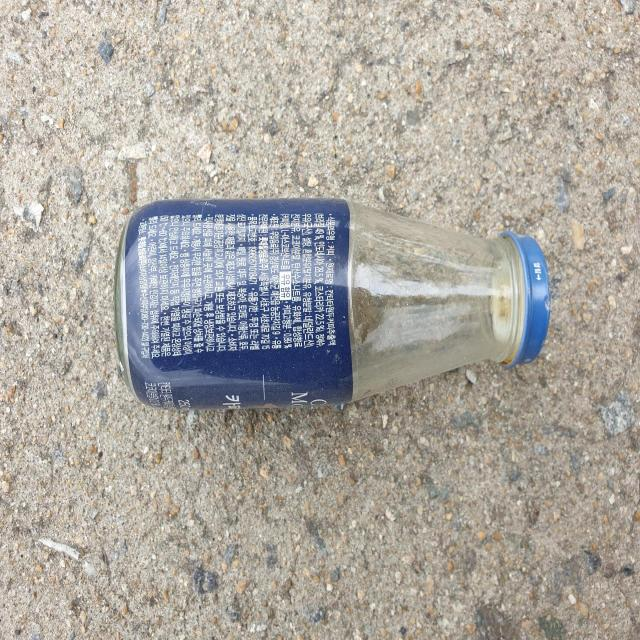glass: (114, 200, 551, 410)
